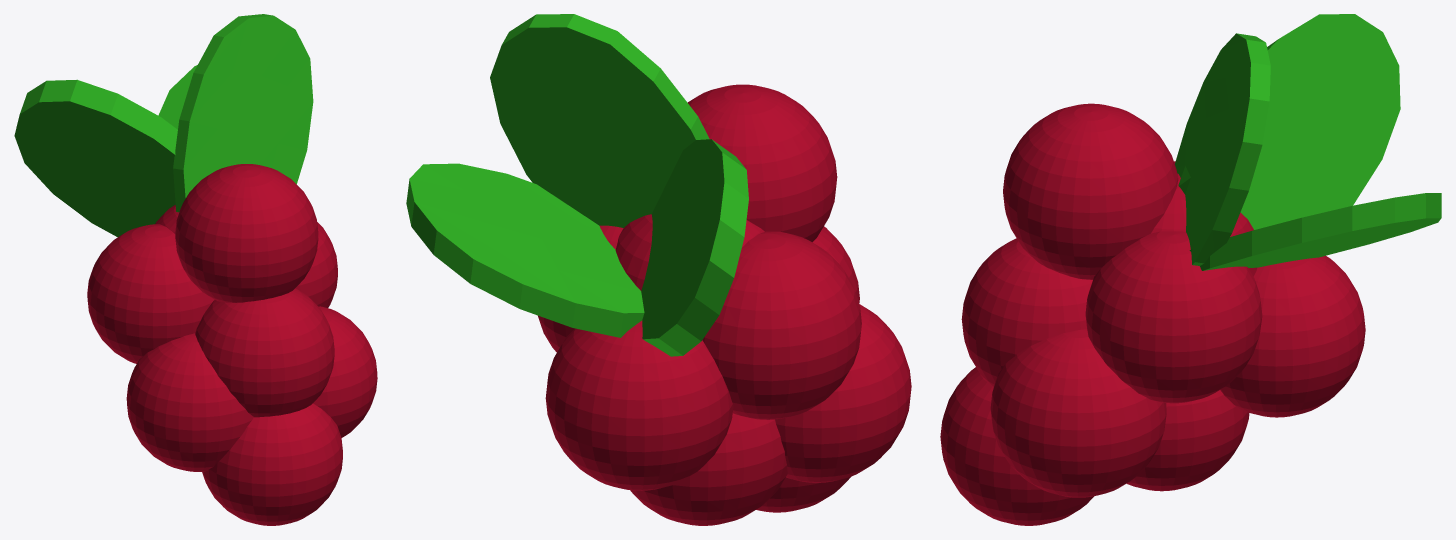
Rendered from berry.obj.
The picture shows the model from 3 angles, left to right: view 1: azimuth 30°, elevation 25°; view 2: azimuth 150°, elevation 25°; view 3: azimuth 270°, elevation 25°; orthographic projection. The views are drawn at different scales.
Visible parts, largest first — view 1: berry; view 2: berry; view 3: berry.
Boxes of the visible parts, box(x1,y1,x2,y2) form: berry: box(14, 14, 377, 525); berry: box(406, 14, 911, 525); berry: box(940, 14, 1441, 525).
Size of the model in its own units: 0.6334 by 1 by 0.8774.
